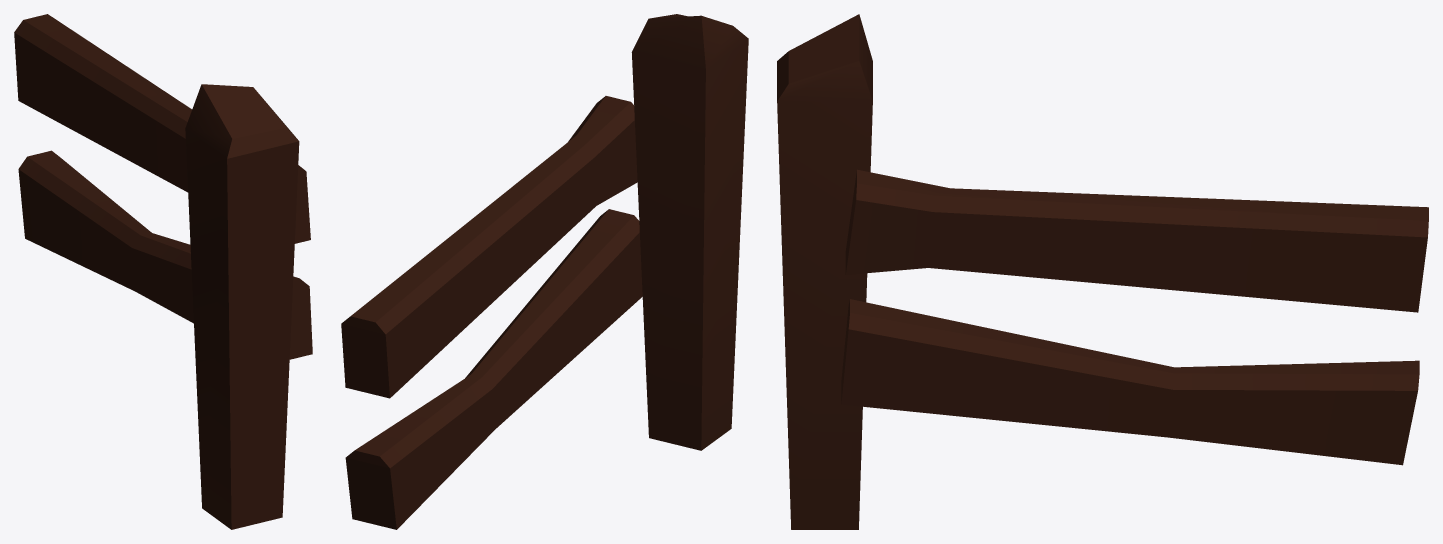
File: SM_Fence2.FBX
3 renders of one model, left to right at view 1: azimuth 30°, elevation 25°; view 2: azimuth 150°, elevation 25°; view 3: azimuth 270°, elevation 25°, orthographic. The views are drawn at different scales.
Visible parts, largest first — view 1: Box001; view 2: Box001; view 3: Box001.
Boxes of the visible parts, x1,y1,x2,y2 form: Box001: [14, 14, 312, 529]; Box001: [341, 14, 748, 529]; Box001: [777, 14, 1428, 529].
Bounding box in the file's own units: 1.57 × 5.61 × 6.8.
